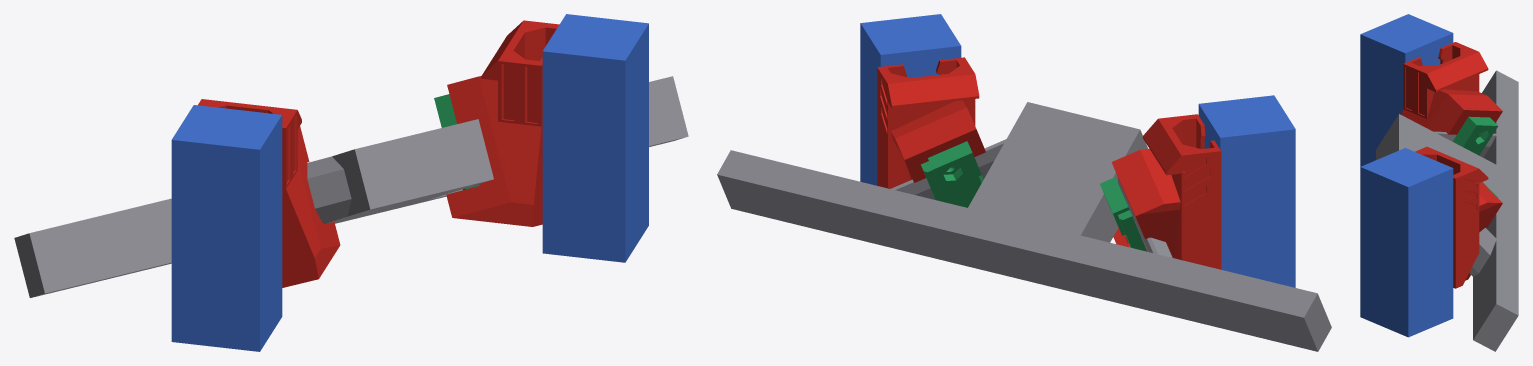
File: assembly_m21.obj
The picture shows the model from 3 angles, left to right: view 1: azimuth 30°, elevation 25°; view 2: azimuth 150°, elevation 25°; view 3: azimuth 270°, elevation 25°; orthographic projection. The views are drawn at different scales.
Parts seen in each view (by area): view 1: left_light_placeholder, right_light_placeholder, hanger_schematic, right_saddle, left_saddle, right_keeper; view 2: hanger_schematic, left_light_placeholder, left_saddle, right_saddle, right_light_placeholder, right_keeper, left_keeper; view 3: right_light_placeholder, hanger_schematic, left_light_placeholder, left_saddle, right_saddle, left_keeper.
Part boxes in pixels (x1,y1,x2,y2): left_light_placeholder: [171, 105, 282, 351]; right_light_placeholder: [542, 14, 648, 262]; hanger_schematic: [14, 76, 688, 297]; right_saddle: [446, 20, 559, 226]; left_saddle: [198, 99, 340, 287]; right_keeper: [434, 94, 479, 189]; hanger_schematic: [717, 102, 1331, 351]; left_light_placeholder: [1198, 95, 1295, 287]; left_saddle: [1111, 114, 1221, 269]; right_saddle: [877, 57, 985, 188]; right_light_placeholder: [860, 14, 961, 185]; right_keeper: [921, 141, 983, 207]; left_keeper: [1100, 177, 1146, 251]; right_light_placeholder: [1360, 148, 1453, 337]; hanger_schematic: [1376, 70, 1518, 351]; left_light_placeholder: [1360, 14, 1453, 166]; left_saddle: [1401, 42, 1502, 134]; right_saddle: [1415, 146, 1502, 288]; left_keeper: [1452, 116, 1497, 155].
Size of the model in its own units: 260 by 78 by 74.52.
